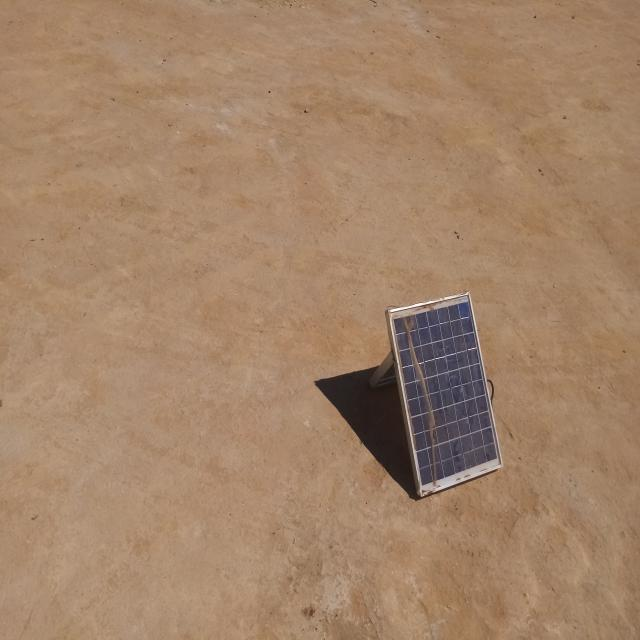faulty: (390, 293, 503, 495)
